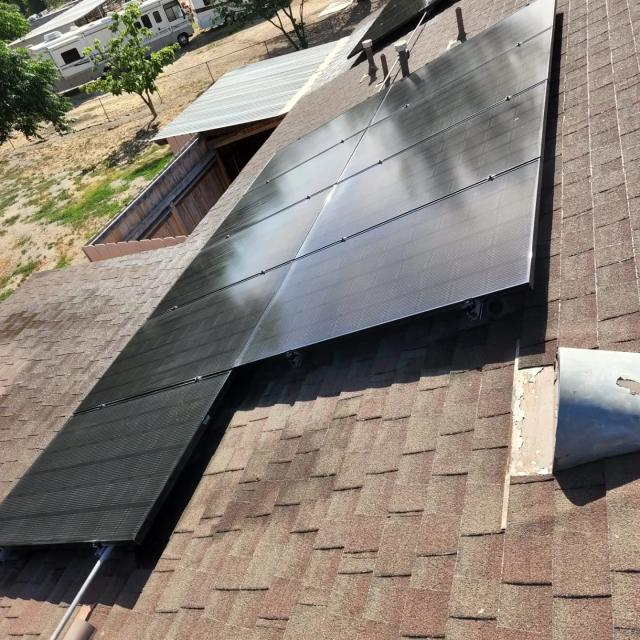clean-solar-panel: (0, 0, 554, 548)
